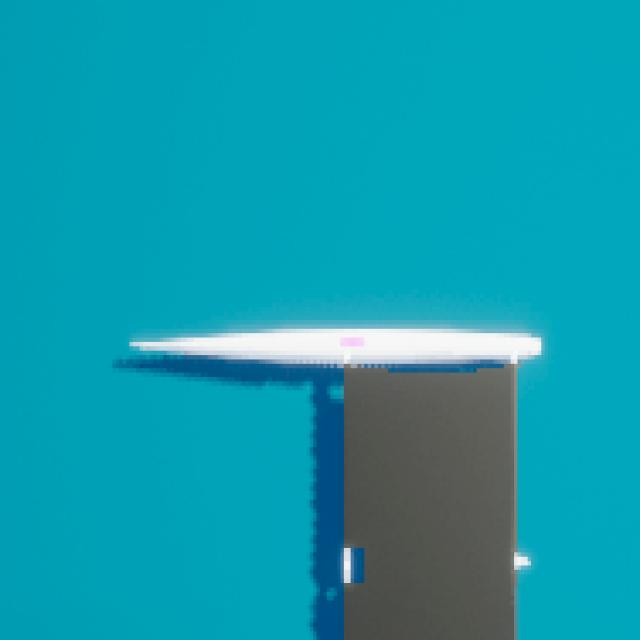boat: (112, 315, 565, 640)
drone: (344, 364, 511, 640)
